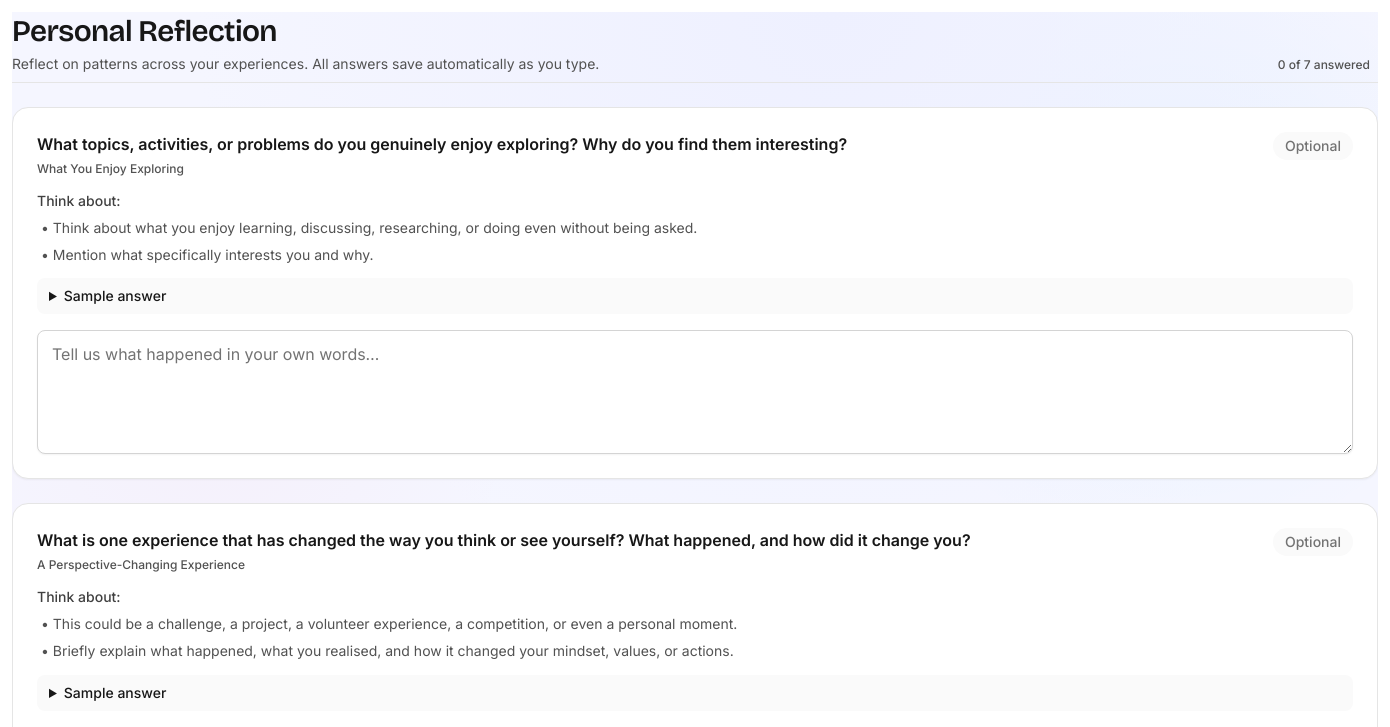
Test: PersonalReflectionForm › ignores stale responses from out-of-order network requests
The width and height of the screenshot is (1390, 727).
Note: First edit
Step 1. Type "Draft 1" into the text box with placeholder "Tell us what happened in your own words…" below "What You Enjoy Exploring" → (695, 392), box [37,330,1353,454]
Wait 1000 ms
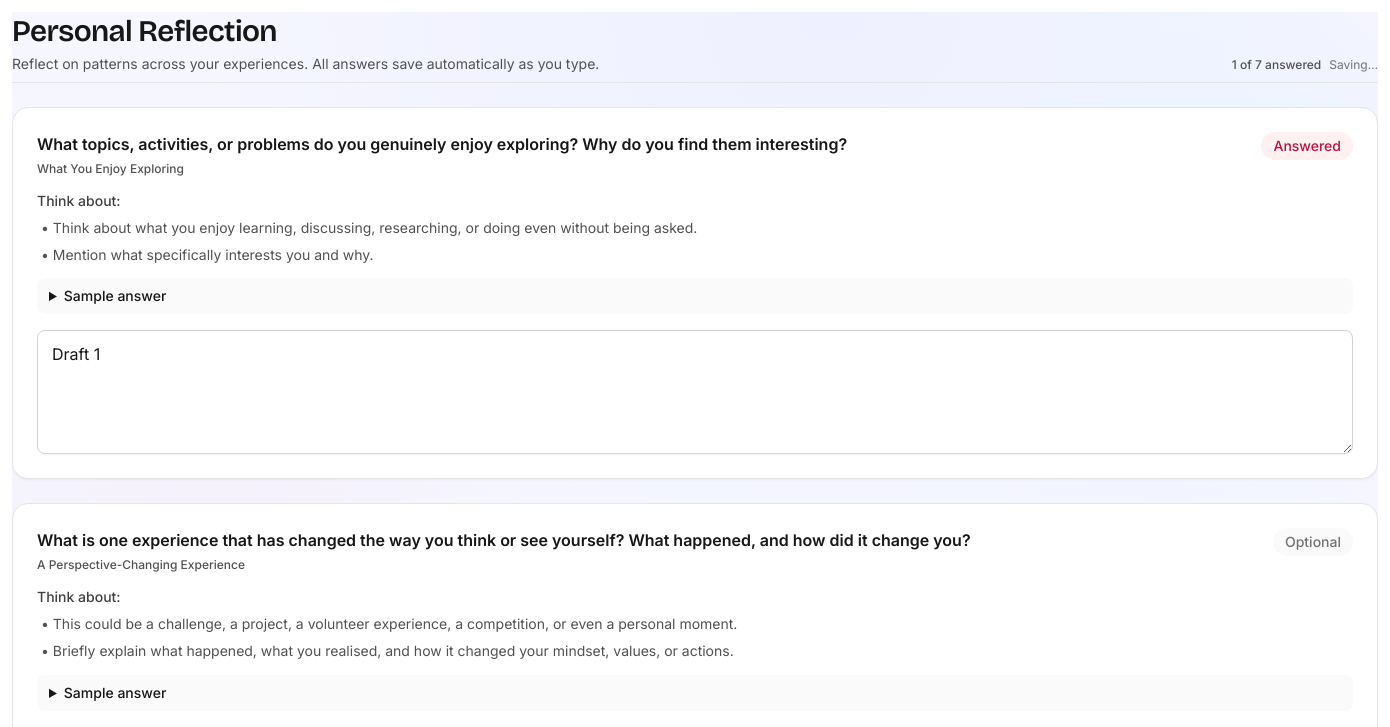
Note: Second edit
Step 2. Replace the text in the 1st text box with "Draft 2" → (695, 392), box [37,330,1353,454]
Wait 1000 ms
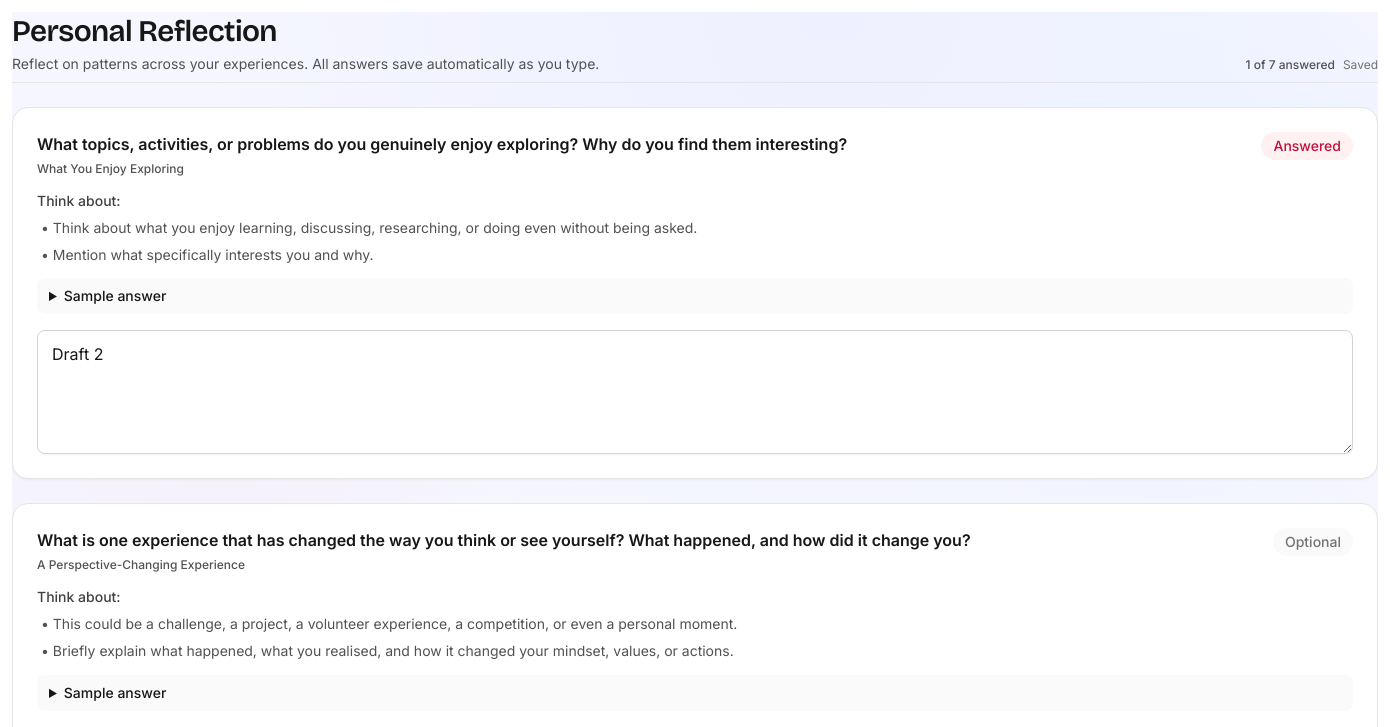
Now the text "Saved" is shown, box [1343,56,1378,74]
